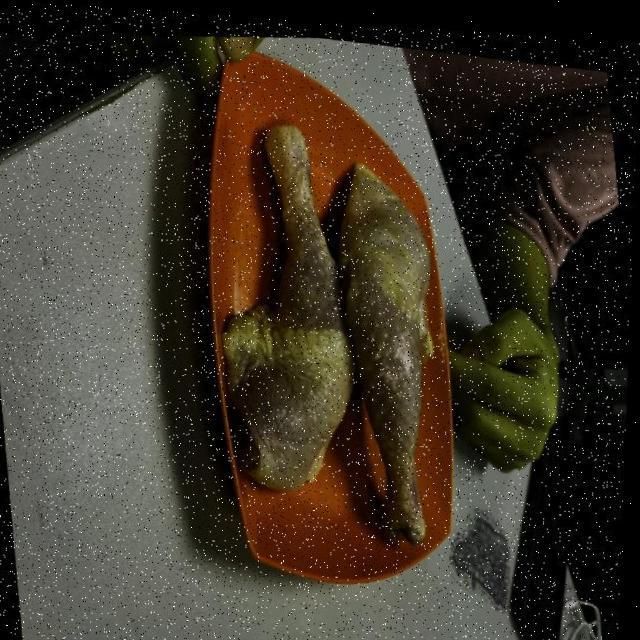leg: (319, 146, 485, 559), (228, 120, 354, 488)
